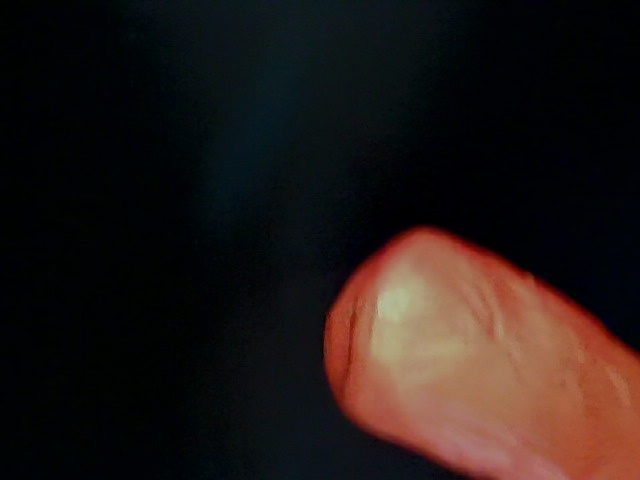YHLJ: (366, 270, 483, 354)
